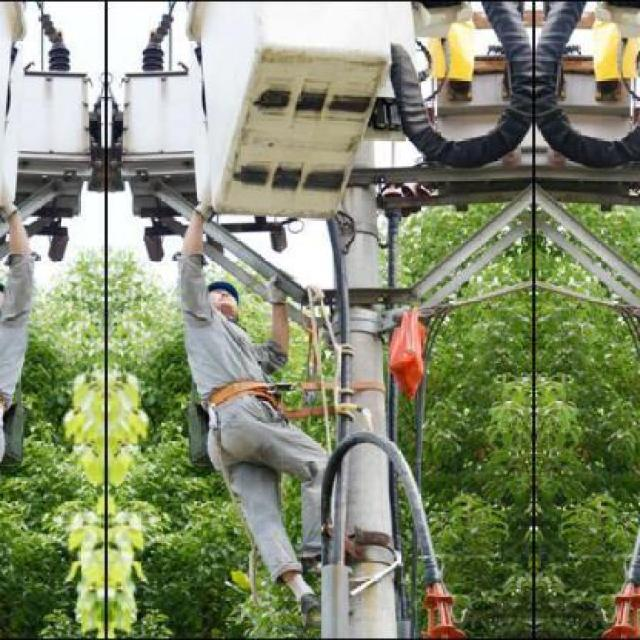helmet: (200, 278, 243, 322), (0, 277, 11, 323)
